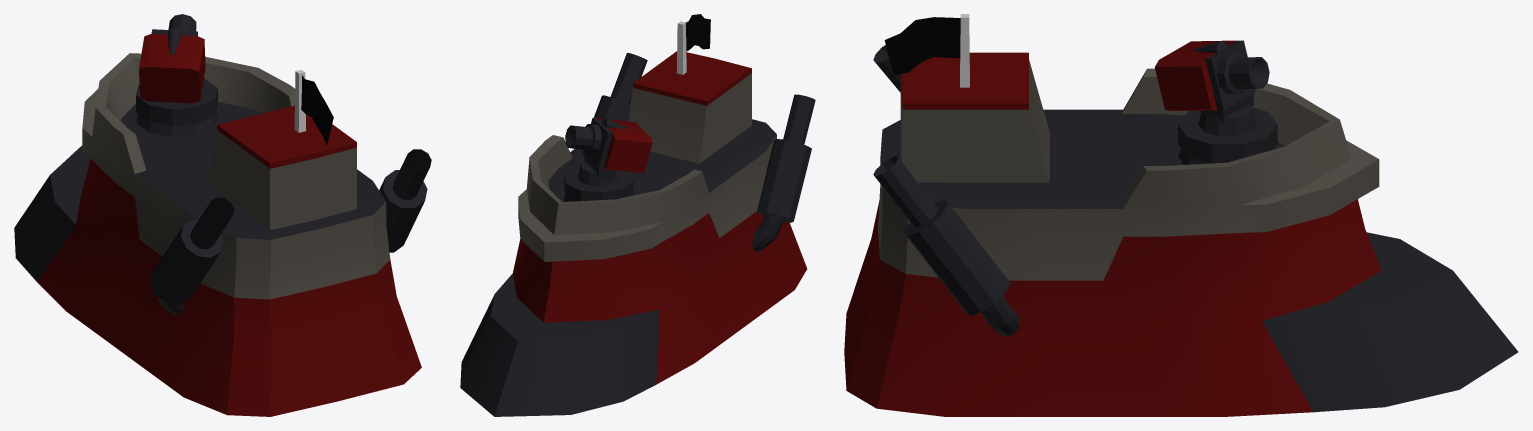
The model's file is ship_heavy.obj.
The picture shows the model from 3 angles, left to right: view 1: azimuth 30°, elevation 25°; view 2: azimuth 150°, elevation 25°; view 3: azimuth 270°, elevation 25°; orthographic projection. The views are drawn at different scales.
Visible parts, largest first — view 1: Circle.021_Circle.044, Cylinder.013_Cylinder.025, Cube.020_Cube.058, Cylinder.012_Cylinder.024, Plane.006_Plane.023, Cube.021_Cube.059; view 2: Circle.021_Circle.044, Cylinder.013_Cylinder.025, Cube.020_Cube.058, Cylinder.012_Cylinder.024, Plane.006_Plane.023, Cube.021_Cube.059; view 3: Circle.021_Circle.044, Cylinder.013_Cylinder.025, Cube.020_Cube.058, Cylinder.012_Cylinder.024, Plane.006_Plane.023, Cube.021_Cube.059.
Part boxes in pixels (bbox=[...]): Circle.021_Circle.044: bbox=[14, 53, 421, 416]; Cylinder.013_Cylinder.025: bbox=[149, 149, 431, 315]; Cube.020_Cube.058: bbox=[139, 14, 205, 103]; Cylinder.012_Cylinder.024: bbox=[136, 78, 217, 136]; Plane.006_Plane.023: bbox=[301, 75, 333, 145]; Cube.021_Cube.059: bbox=[294, 69, 306, 132]; Circle.021_Circle.044: bbox=[460, 51, 807, 416]; Cylinder.013_Cylinder.025: bbox=[593, 53, 815, 251]; Cube.020_Cube.058: bbox=[565, 118, 652, 180]; Cylinder.012_Cylinder.024: bbox=[564, 161, 633, 201]; Plane.006_Plane.023: bbox=[686, 14, 710, 51]; Cube.021_Cube.059: bbox=[676, 21, 686, 74]; Circle.021_Circle.044: bbox=[844, 52, 1518, 416]; Cylinder.013_Cylinder.025: bbox=[873, 45, 1019, 336]; Cube.020_Cube.058: bbox=[1154, 40, 1269, 123]; Cylinder.012_Cylinder.024: bbox=[1178, 103, 1277, 164]; Plane.006_Plane.023: bbox=[884, 17, 960, 74]; Cube.021_Cube.059: bbox=[960, 14, 969, 87].
Bounding box in the file's own units: 29.23 × 32.19 × 57.22.
